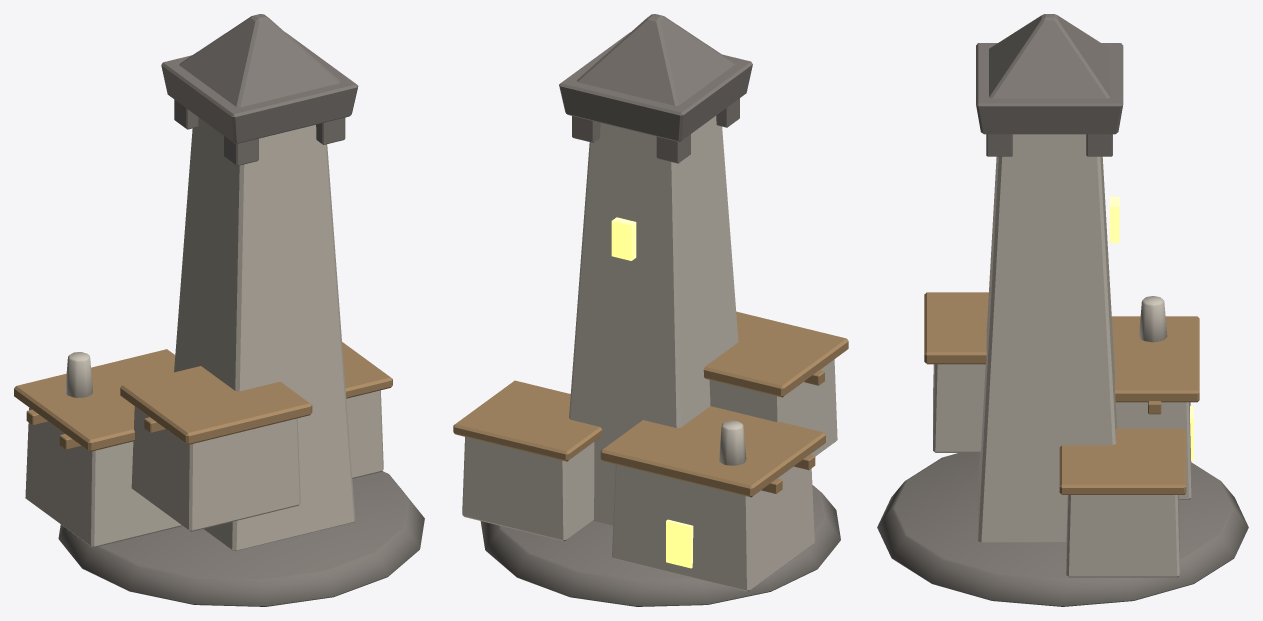
File: Caucasian_Watchtower.glb
The picture shows the model from 3 angles, left to right: view 1: azimuth 30°, elevation 25°; view 2: azimuth 150°, elevation 25°; view 3: azimuth 270°, elevation 25°; orthographic projection. The views are drawn at different scales.
Visible parts, largest first — view 1: CombatTower, Plinth, SaklyaMid, SaklyaLower, SaklyaMidRoof, PyramidalRoof, SaklyaLowerRoof, Machicolation, SaklyaEast, SaklyaEastRoof, ChimneyL, Corbel_-0.22_-0.38 (+1 smaller); view 2: CombatTower, SaklyaLower, Plinth, SaklyaLowerRoof, SaklyaEast, PyramidalRoof, Machicolation, SaklyaMidRoof, SaklyaEastRoof, SaklyaMid, DoorWarm, ChimneyL (+3 smaller); view 3: CombatTower, Plinth, SaklyaEast, PyramidalRoof, SaklyaEastRoof, Machicolation, SaklyaLowerRoof, SaklyaMidRoof, SaklyaMid, SaklyaLower, ChimneyL, Corbel_0.38_-0.38 (+2 smaller).
Boxes of the visible parts, x1,y1,x2,y2 form: CombatTower: (174,117,355,550); Plinth: (58,471,424,606); SaklyaMid: (131,406,300,531); SaklyaLower: (25,408,182,547); SaklyaMidRoof: (120,366,312,444); PyramidalRoof: (179,14,340,107); SaklyaLowerRoof: (14,349,175,451); Machicolation: (161,32,358,143); SaklyaEast: (346,390,383,478); SaklyaEastRoof: (342,342,392,398); ChimneyL: (65,352,92,397); Corbel_-0.22_-0.38: (224,136,258,165); CombatTower: (569,116,738,525); SaklyaLower: (612,454,814,591); Plinth: (480,485,840,606); SaklyaLowerRoof: (600,406,825,497); SaklyaEast: (462,437,594,541); PyramidalRoof: (576,14,735,105); Machicolation: (559,32,752,141); SaklyaMidRoof: (703,311,848,397); SaklyaEastRoof: (453,380,602,461); SaklyaMid: (709,359,837,456); DoorWarm: (666,519,693,568); ChimneyL: (719,420,746,465); CombatTower: (978,134,1117,542); Plinth: (877,453,1248,606); SaklyaEast: (1066,495,1179,577); PyramidalRoof: (989,14,1110,98); SaklyaEastRoof: (1059,428,1186,494); Machicolation: (976,43,1123,134); SaklyaLowerRoof: (1111,316,1199,402); SaklyaMidRoof: (924,292,988,364); SaklyaMid: (933,364,985,452); SaklyaLower: (1116,402,1191,499); ChimneyL: (1139,296,1167,342); Corbel_0.38_-0.38: (986,134,1012,156).
Size of the model in its own units: 2.27 by 3.43 by 2.23.
